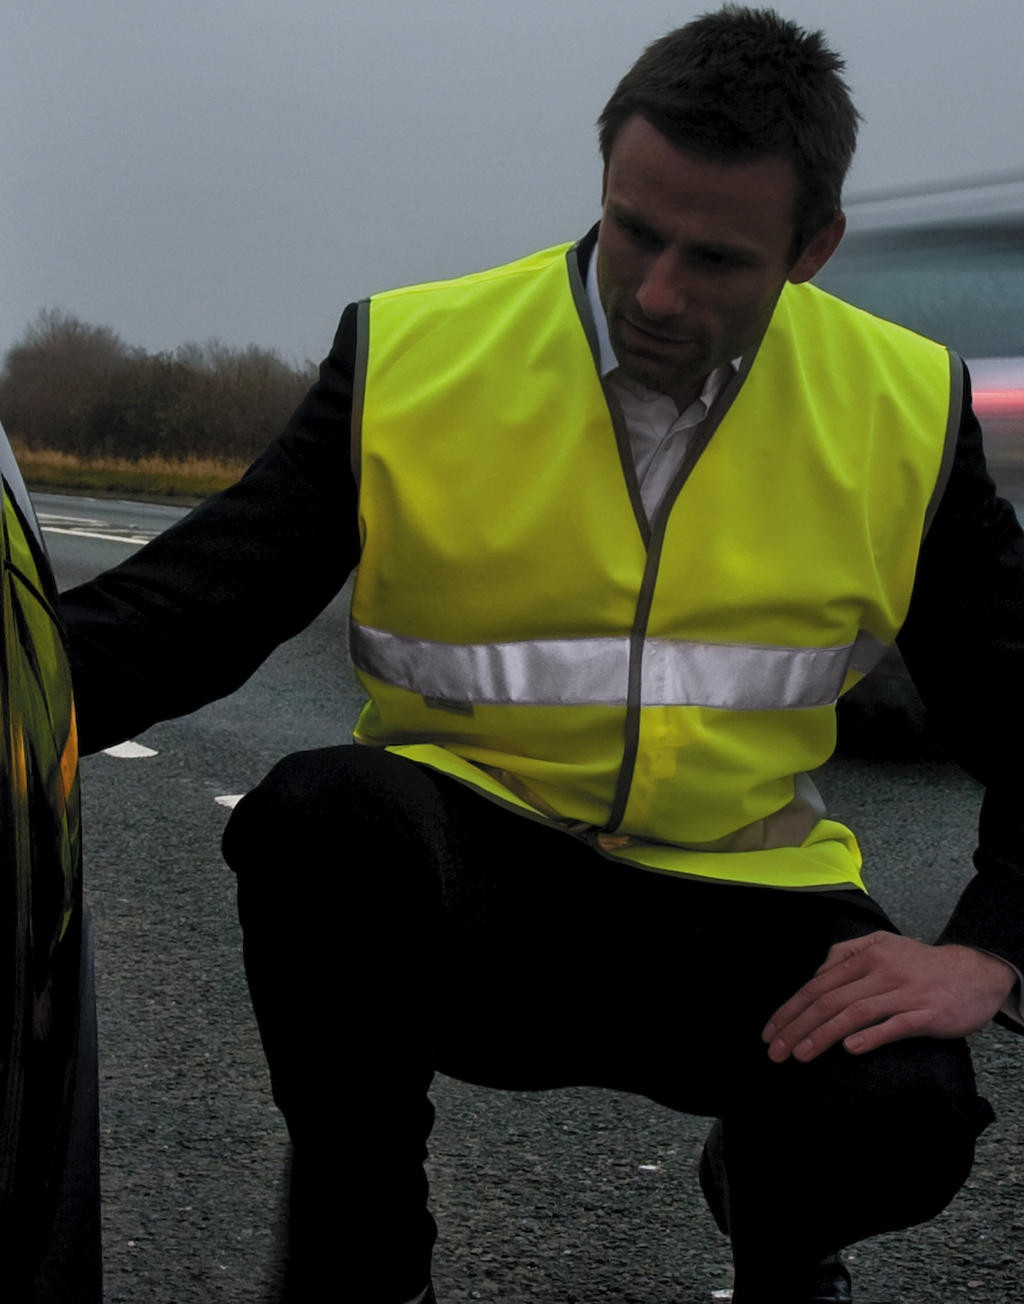person with partial safety: (261, 17, 962, 1304)
safety vest: (370, 257, 877, 884)
